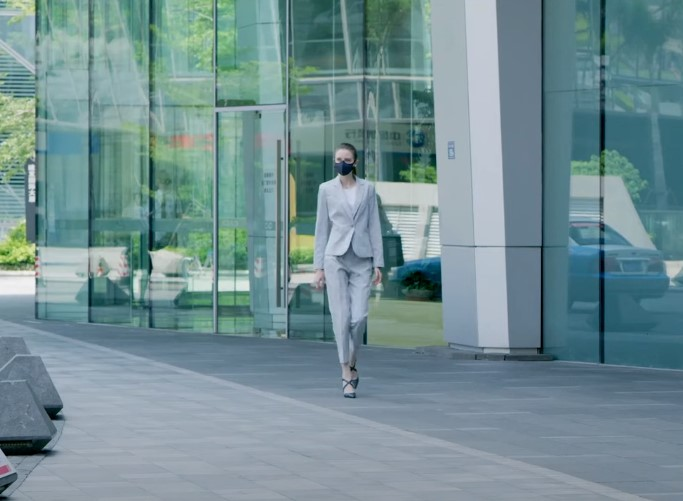face_with_mask: (332, 141, 360, 178)
